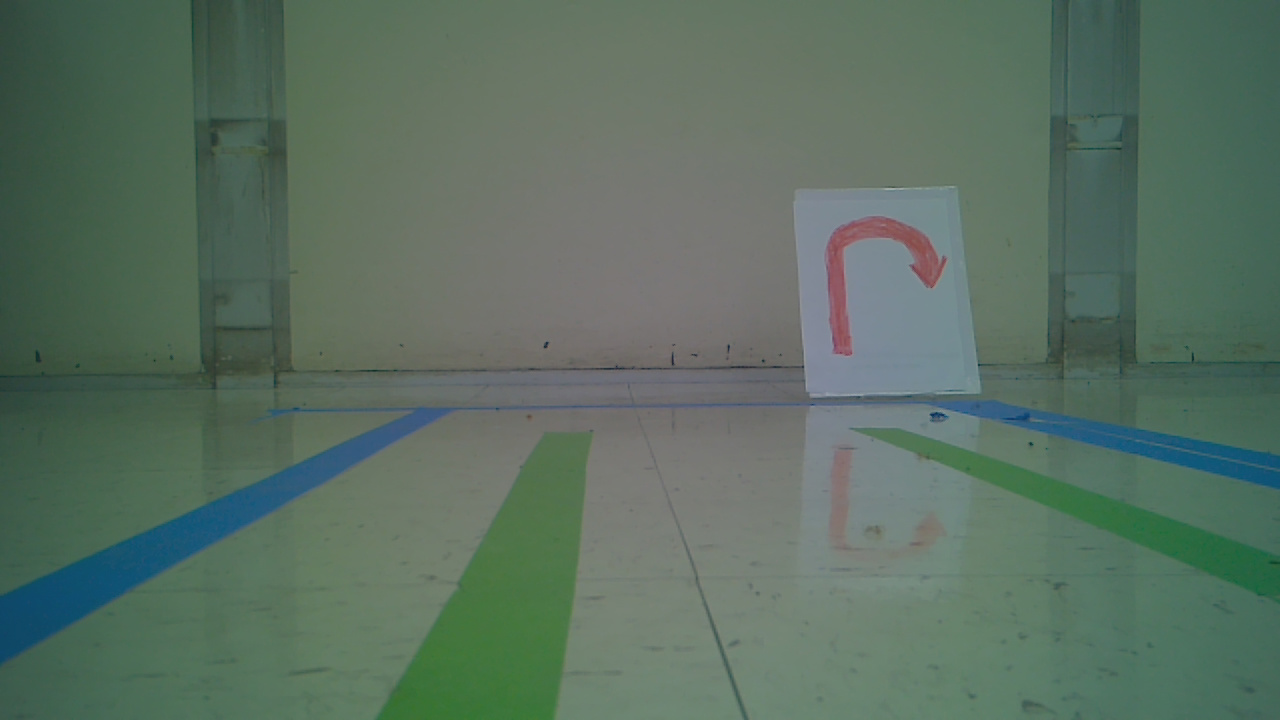greenline: (859, 429, 1267, 590), (371, 429, 590, 720)
uturn: (817, 210, 956, 359)
